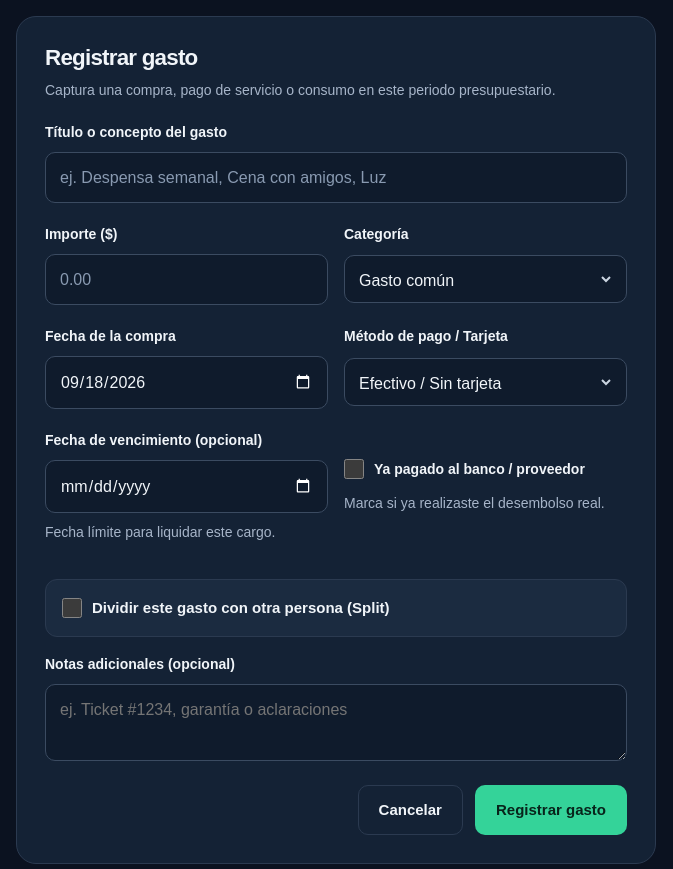
ExpenseForm › renders expense form and validates positive amount and title
Check: the field labelled "Importe ($)" is shown, box [45,254,328,305]
Type "Gasto prueba" into the field labelled "Título o concepto del gasto". click: [336, 177]
box: [45,152,627,203]
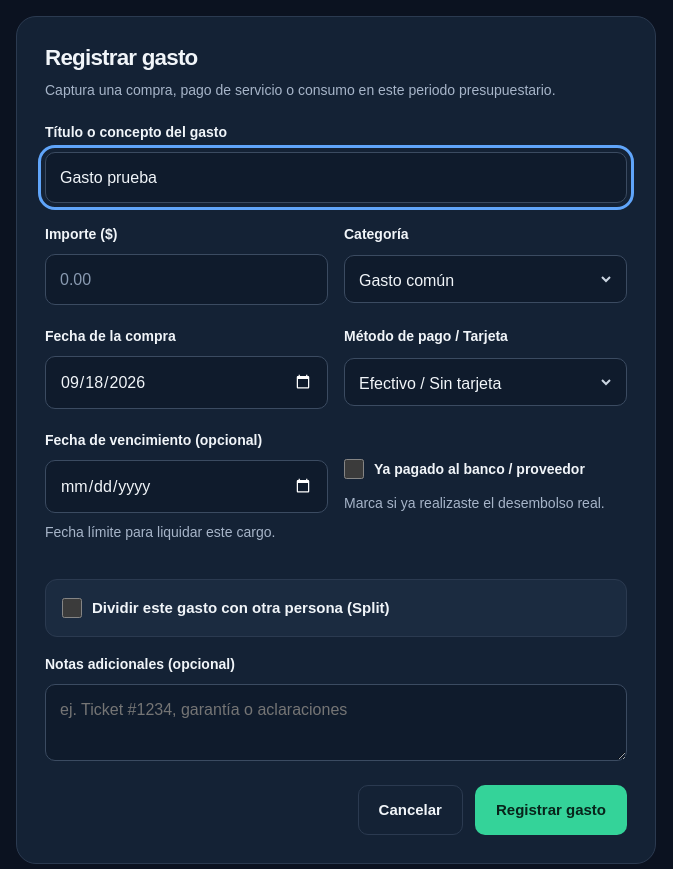
Type "0" into the field labelled "Importe ($)". click: [186, 279]
box: [45,254,328,305]
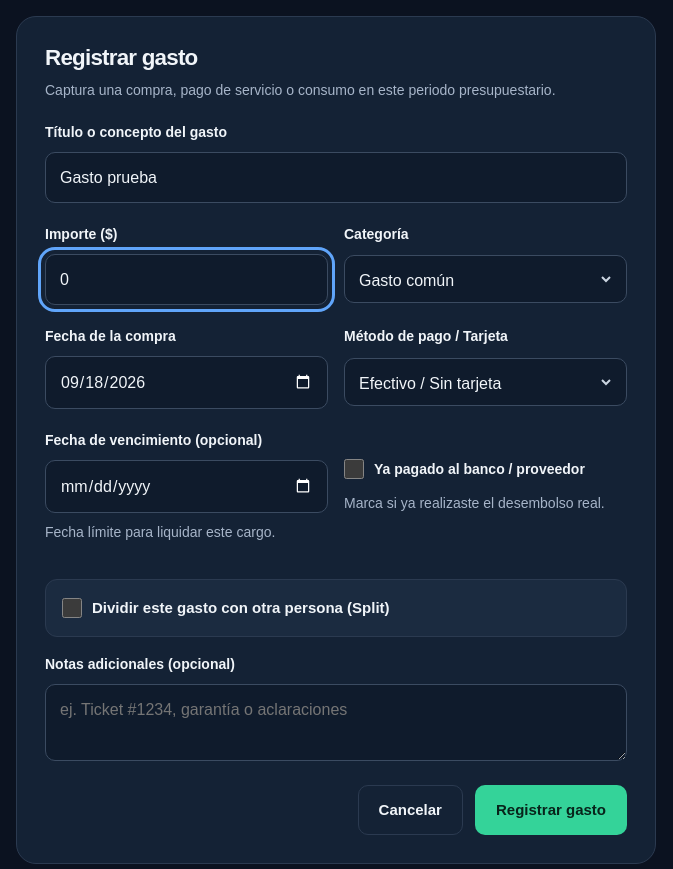
Click the button "Registrar gasto". click: [551, 810]
box: [475,785,627,835]
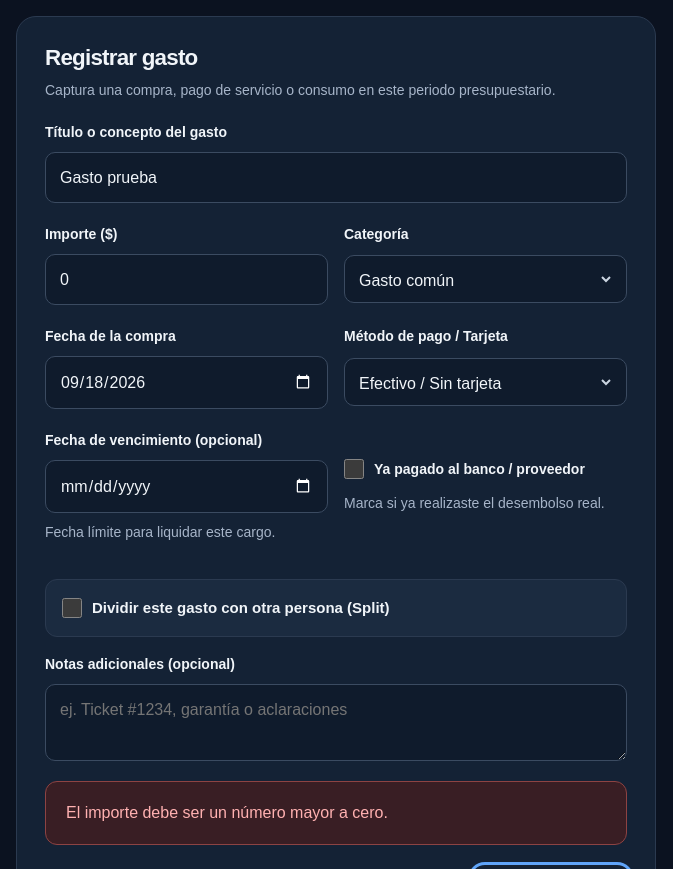
Check: the text "El importe debe ser un número mayor a cero." is shown, box [66,804,388,821]
